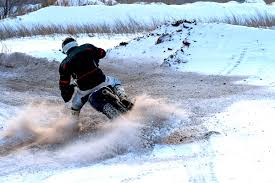motorcycle: (85, 81, 137, 126)
